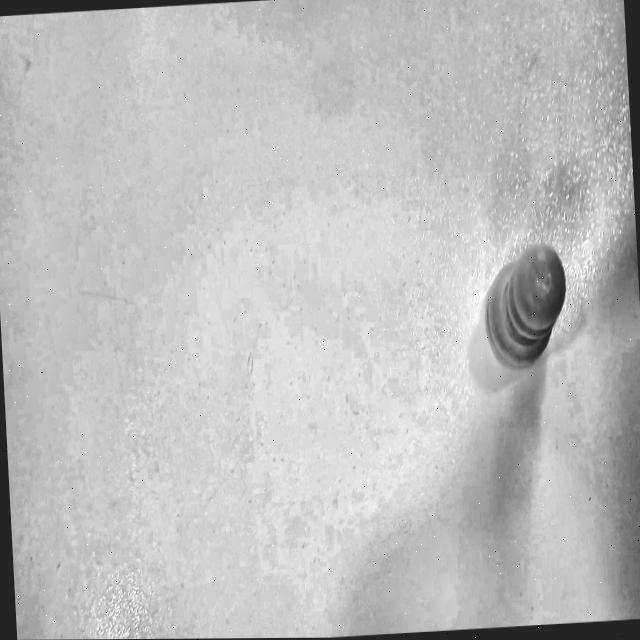white-pawn: (466, 212, 602, 409)
